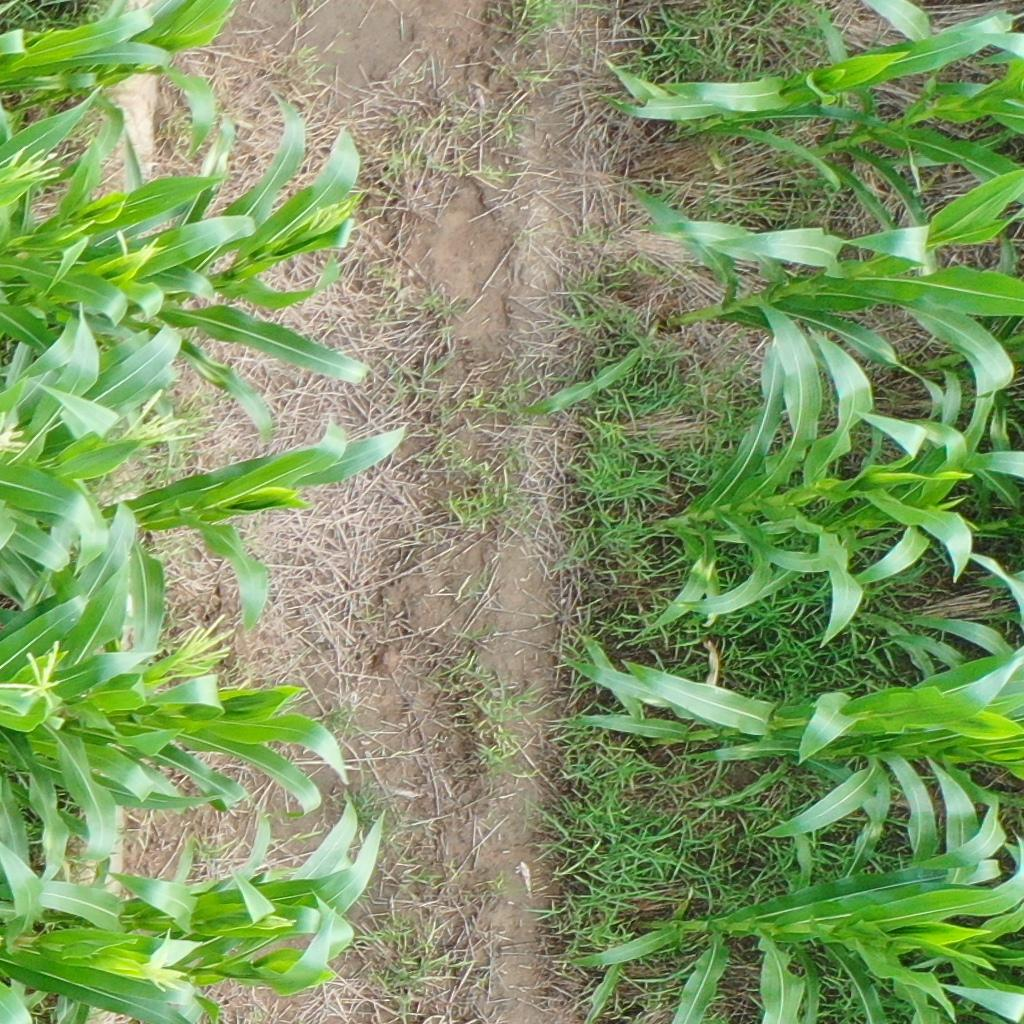Tassel: (117, 386, 198, 449), (1, 640, 69, 711), (177, 612, 230, 675), (4, 143, 64, 192), (115, 961, 187, 996), (112, 227, 167, 269), (310, 202, 355, 235), (1, 408, 28, 461), (254, 915, 296, 934)
